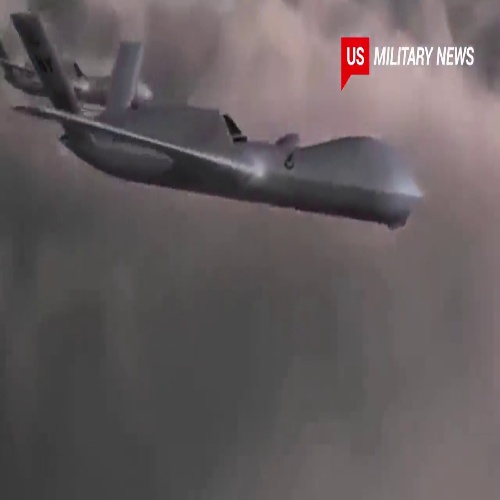uav: (10, 16, 431, 234)
